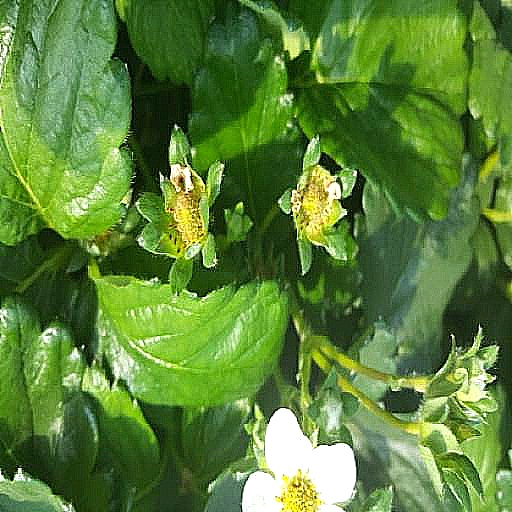Blossom Blight: (307, 261, 347, 335), (177, 277, 218, 345)
